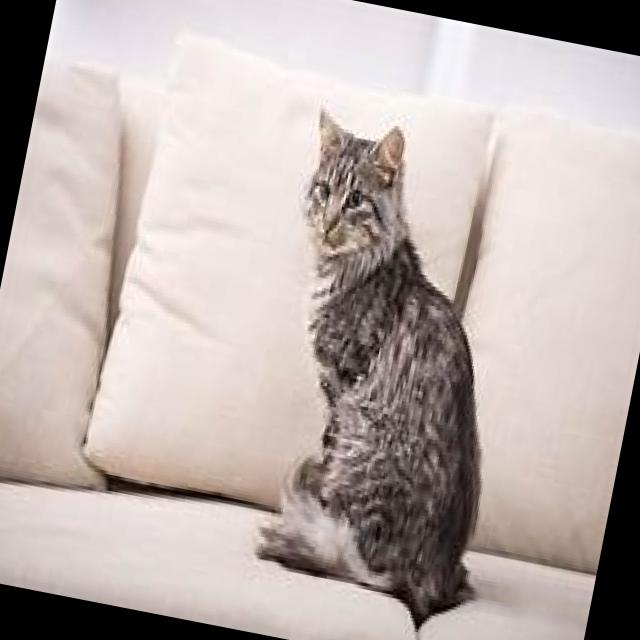animal: (222, 101, 562, 638)
